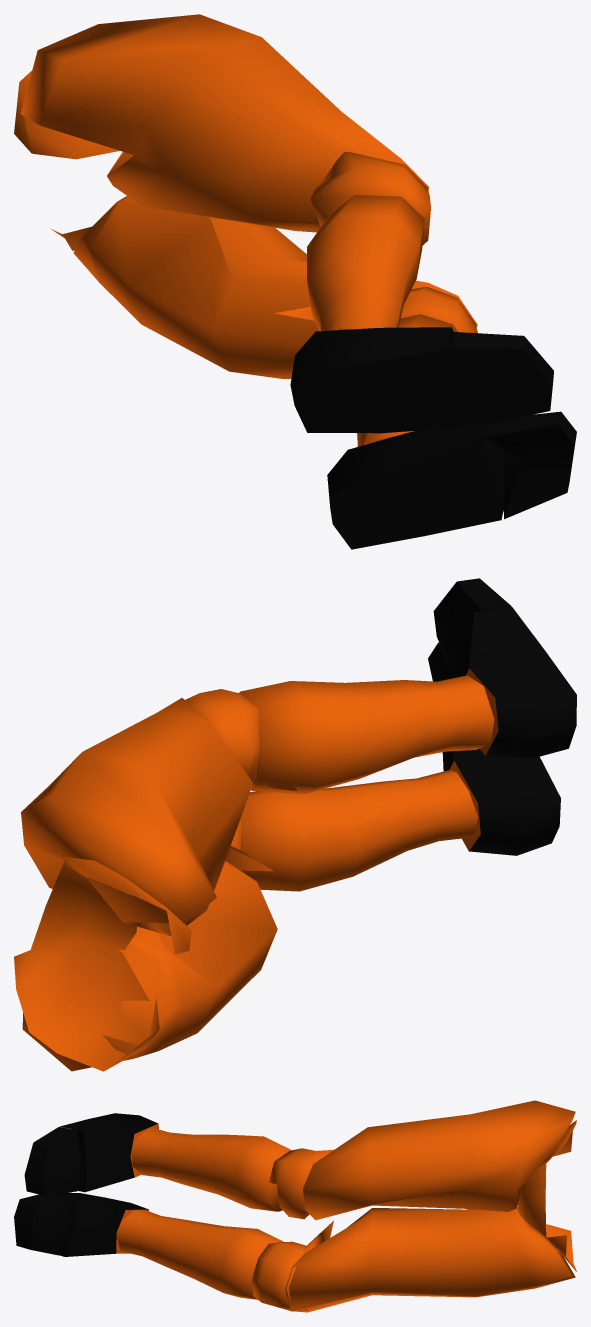
File: SlidingLegsFinal.fbx
3 views of the same model, one above another, from view 1: azimuth 30°, elevation 25°; view 2: azimuth 150°, elevation 25°; view 3: azimuth 270°, elevation 25° (orthographic). The views are drawn at different scales.
Parts seen in each view (by area): view 1: DummyMesh; view 2: DummyMesh; view 3: DummyMesh.
Boxes of the visible parts, x1,y1,x2,y2 form: DummyMesh: (14,14,576,549); DummyMesh: (14,578,576,1071); DummyMesh: (14,1100,576,1312).
Size of the model in its own units: 4565 by 3923 by 10938.
